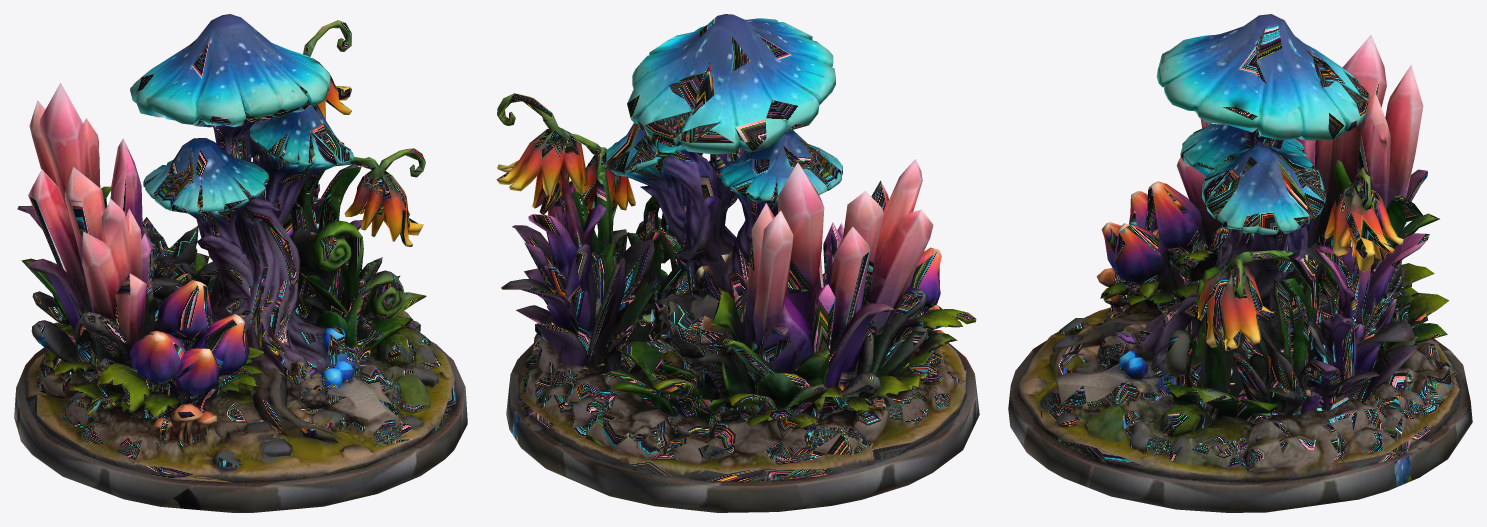
File: Bioluminescent_Mushro.glb
3 renders of one model, left to right at view 1: azimuth 30°, elevation 25°; view 2: azimuth 150°, elevation 25°; view 3: azimuth 270°, elevation 25°, orthographic. The views are drawn at different scales.
Parts seen in each view (by area): view 1: Bioluminescent_Mushro; view 2: Bioluminescent_Mushro; view 3: Bioluminescent_Mushro.
Boxes of the visible parts, bbox=[...] form: Bioluminescent_Mushro: bbox=[14, 14, 467, 512]; Bioluminescent_Mushro: bbox=[496, 14, 979, 512]; Bioluminescent_Mushro: bbox=[1008, 14, 1472, 512].
Size of the model in its own units: 1.89 by 1.8 by 1.9.
Materials: 1 (1 with a texture image).
